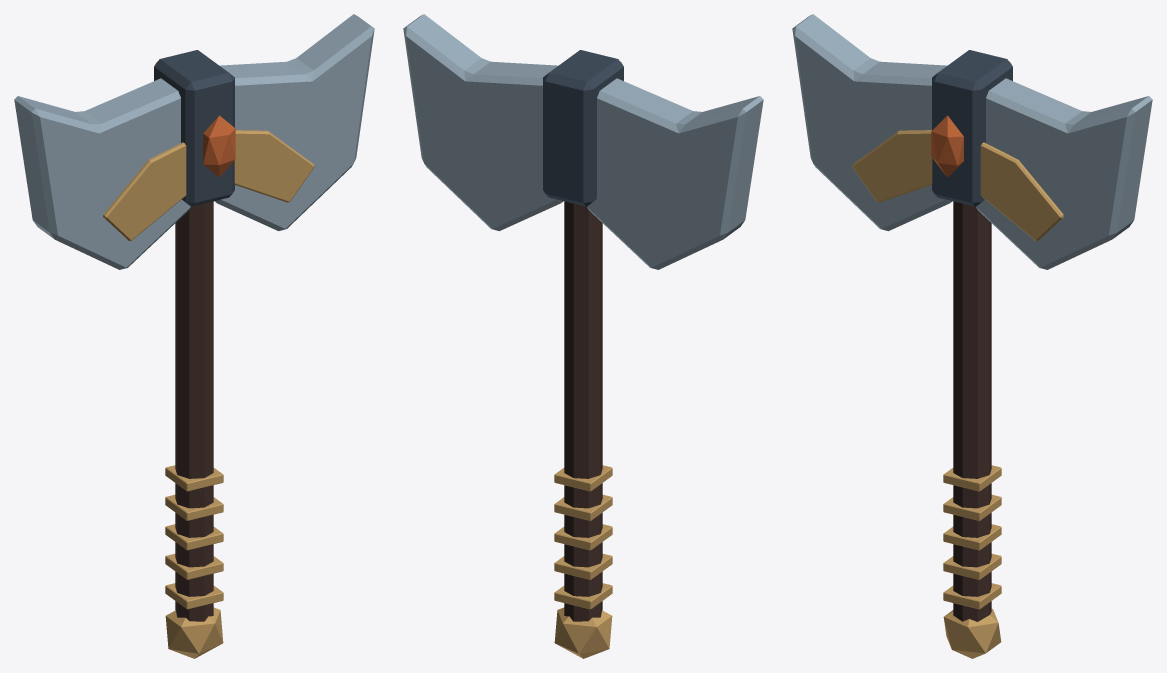
File: forge-greataxe-v2.glb
3 views of the same model, side by side, from view 1: azimuth 30°, elevation 25°; view 2: azimuth 150°, elevation 25°; view 3: azimuth 330°, elevation 25° (orthographic).
Parts seen in each view (by area): view 1: forge-greataxe-v2; view 2: forge-greataxe-v2; view 3: forge-greataxe-v2.
Part boxes in pixels (x1,y1,x2,y2): forge-greataxe-v2: [14, 14, 374, 658]; forge-greataxe-v2: [403, 14, 763, 658]; forge-greataxe-v2: [792, 14, 1152, 658].
Bounding box in the file's own units: 1.04 × 1.72 × 0.2555.
